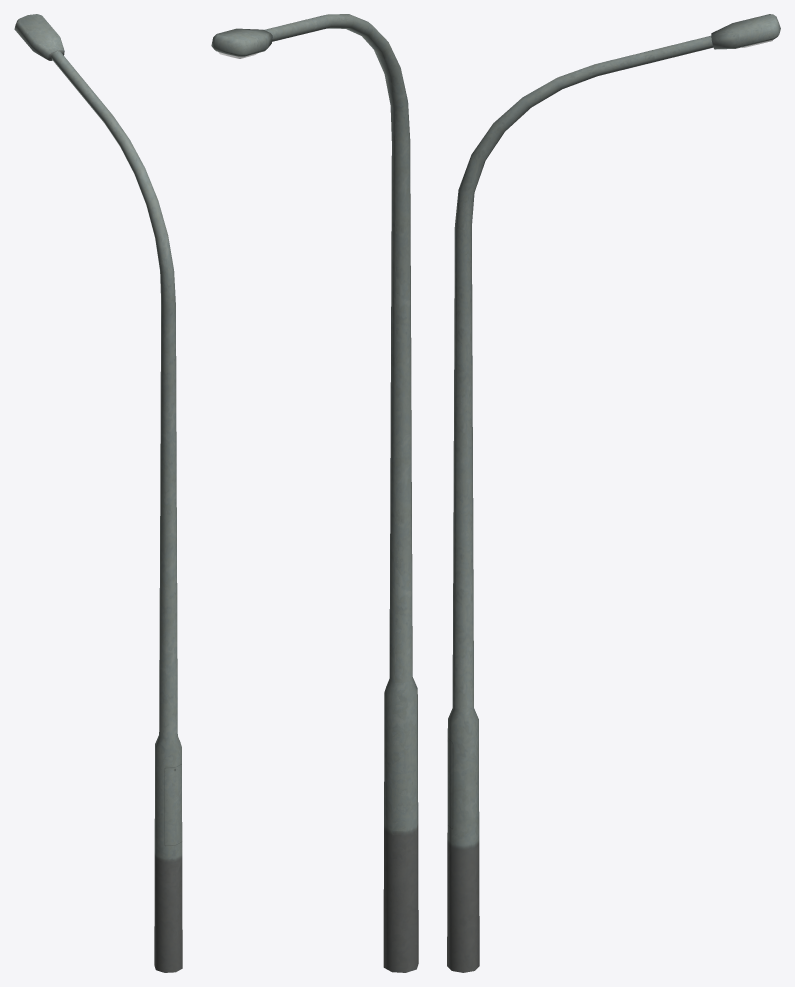
The model's file is Streetlight1.fbx.
The picture shows the model from 3 angles, left to right: view 1: azimuth 30°, elevation 25°; view 2: azimuth 150°, elevation 25°; view 3: azimuth 270°, elevation 25°; orthographic projection. The views are drawn at different scales.
Visible parts, largest first — view 1: Streetlight1 #lod0; view 2: Streetlight1 #lod0; view 3: Streetlight1 #lod0.
Part boxes in pixels (left/top/right/bottom): Streetlight1 #lod0: left=14, top=14, right=182, bottom=972; Streetlight1 #lod0: left=211, top=14, right=418, bottom=972; Streetlight1 #lod0: left=447, top=14, right=780, bottom=972.
Size of the model in its own units: 33.25 by 304 by 950.
Materials: 1 (1 with a texture image).
